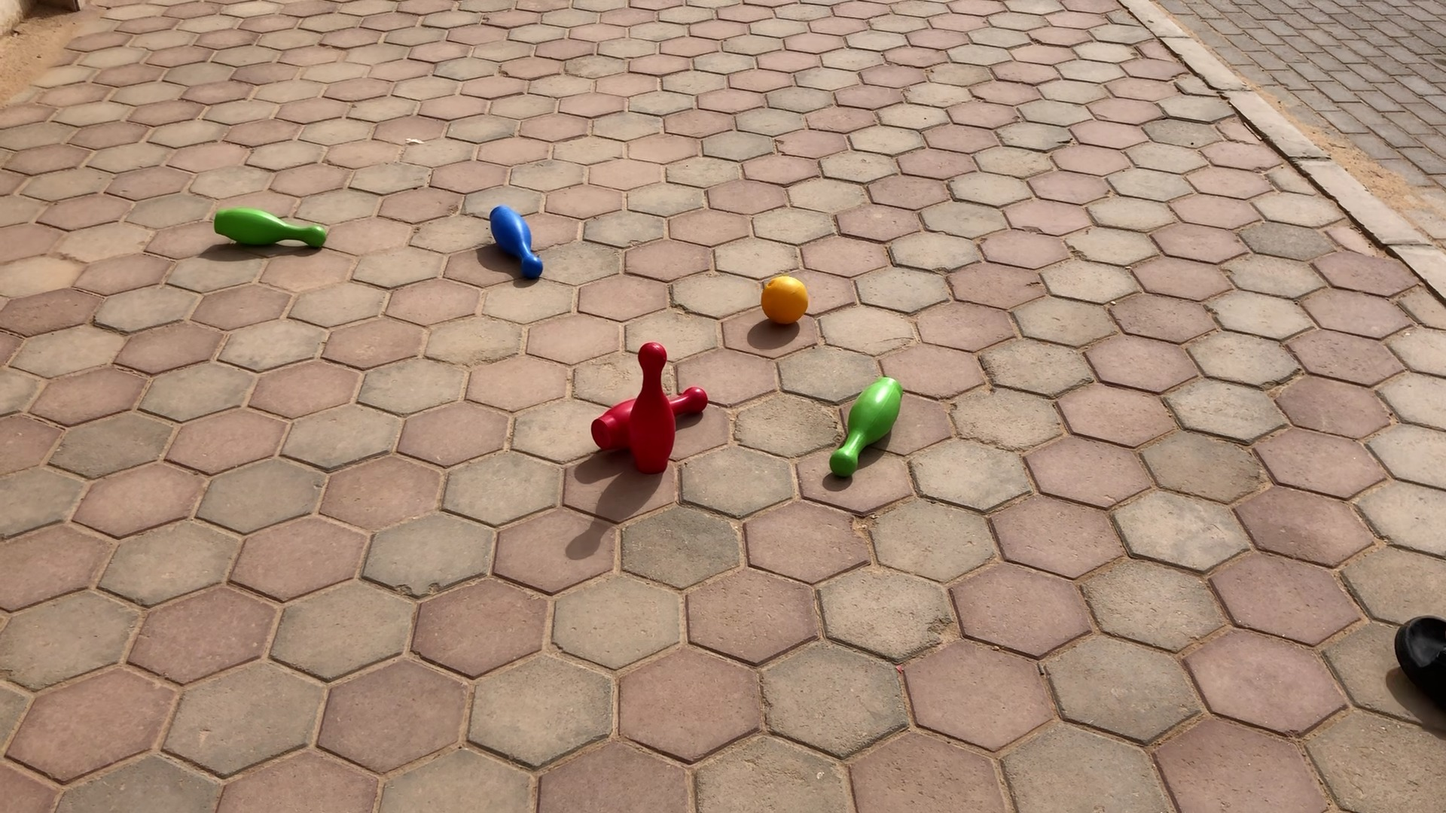bowling-pin: (610, 342, 680, 470), (592, 388, 709, 452), (830, 378, 898, 478), (213, 209, 330, 251), (490, 206, 544, 276)
